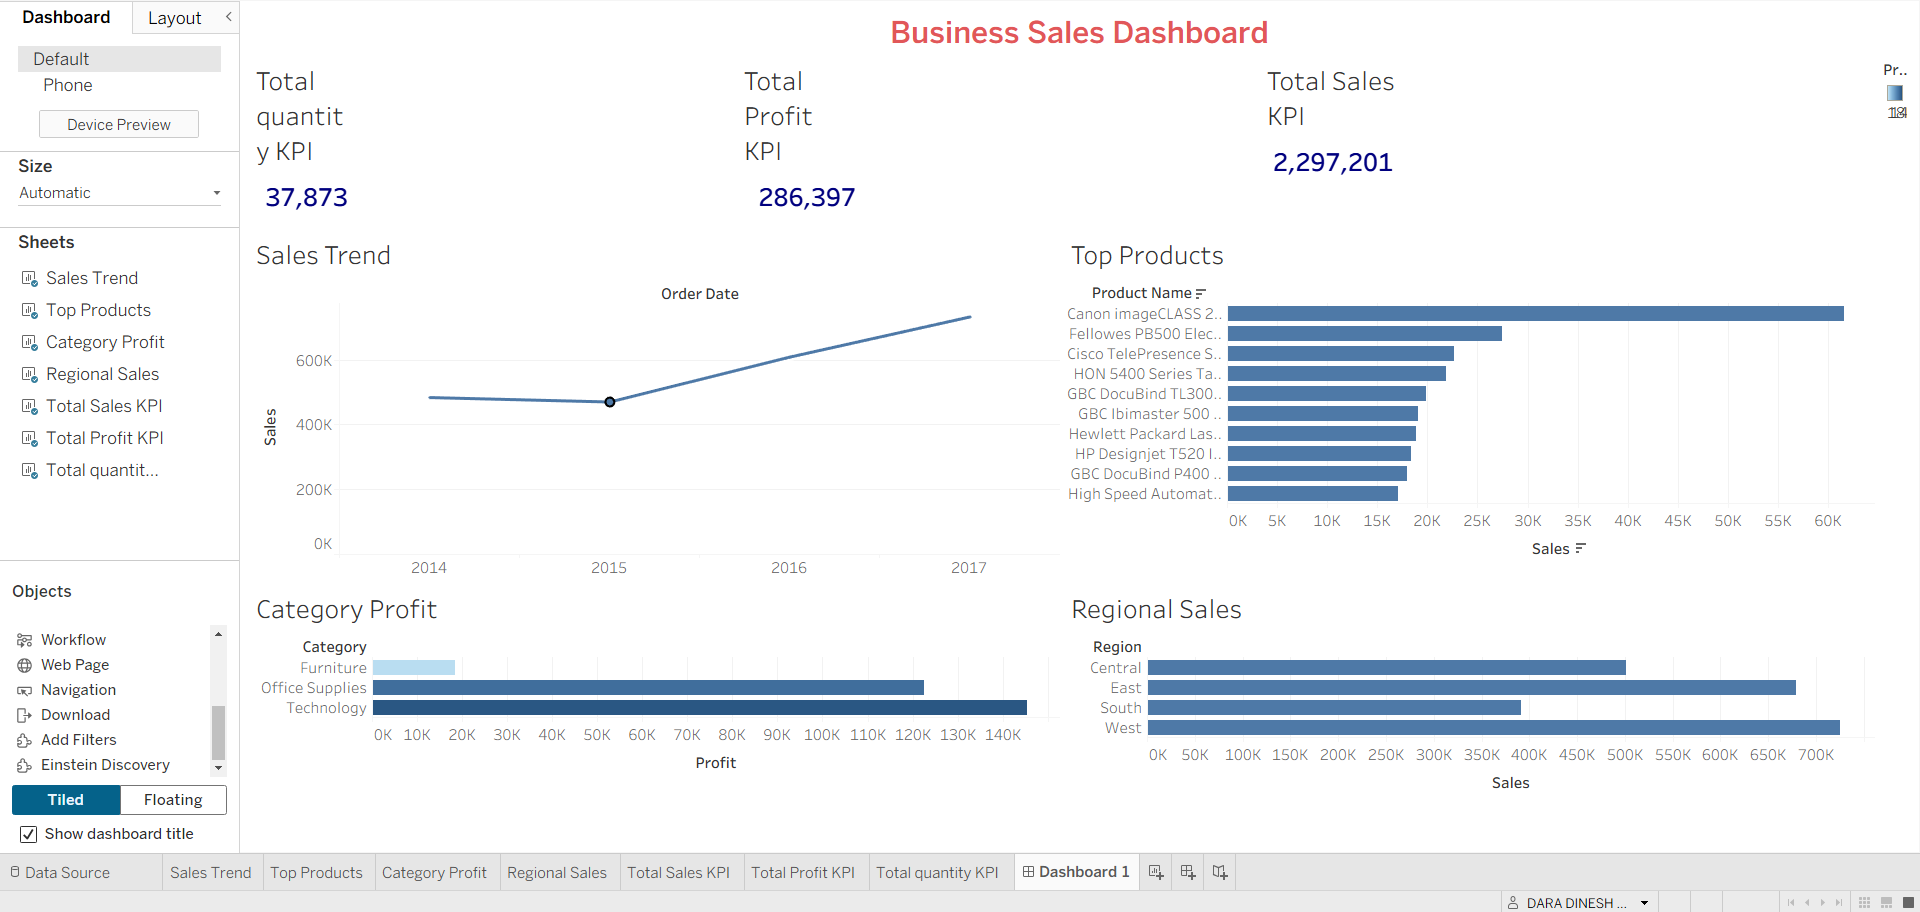

Layout of this report page (visuals, bound fields, positions):
{"tool":"tableau","page":{"name":"Dashboard 1","canvas":[1000,1000],"units":"permille","ordinal":0},"visuals":[{"type":"title","box":[4.8,9.4,990.5,54.1]},{"type":"worksheet","title":"Total quantity KPI","mark":"Automatic","box":[4.8,63.5,290.8,204.3]},{"type":"worksheet","title":"Total Profit KPI","mark":"Automatic","box":[295.6,63.5,311.5,204.3]},{"type":"worksheet","title":"Total Sales KPI","mark":"Automatic","box":[607.1,63.5,369.1,204.3]},{"type":"legend","title":"Category Profit","param":"[federated.1m3ntta0qmdpps14yfzvy04ou3jd].[sum:Profit:qk]","box":[976.2,63.5,19.1,85.8]},{"type":"worksheet","title":"Sales Trend","mark":"Automatic","rows":["Sales"],"cols":["Order Date"],"box":[4.8,267.8,485.7,416.4]},{"type":"worksheet","title":"Top Products","mark":"Automatic","rows":["Product Name"],"cols":["Sales"],"box":[490.5,267.8,485.7,416.4]},{"type":"worksheet","title":"Category Profit","mark":"Automatic","rows":["Category"],"cols":["Profit"],"box":[4.8,684.1,485.7,306.5]},{"type":"worksheet","title":"Regional Sales","mark":"Automatic","rows":["Region"],"cols":["Sales"],"box":[490.5,684.1,485.7,306.5]}]}

Visuals, with their boxes on the dashboard's canvas, which has no fixed pixel size, in thousandths of its width and height (x1, y1, x2, y2). These are canvas units, not pixel positions in the 1920x912 screenshot, which may show the page scaled, cropped or inside an application window:
title: bbox=(5, 9, 995, 64)
"Total quantity KPI" worksheet: bbox=(5, 64, 296, 268)
"Total Profit KPI" worksheet: bbox=(296, 64, 607, 268)
"Total Sales KPI" worksheet: bbox=(607, 64, 976, 268)
"Category Profit" legend: bbox=(976, 64, 995, 149)
"Sales Trend" worksheet: bbox=(5, 268, 490, 684)
"Top Products" worksheet: bbox=(490, 268, 976, 684)
"Category Profit" worksheet: bbox=(5, 684, 490, 991)
"Regional Sales" worksheet: bbox=(490, 684, 976, 991)
